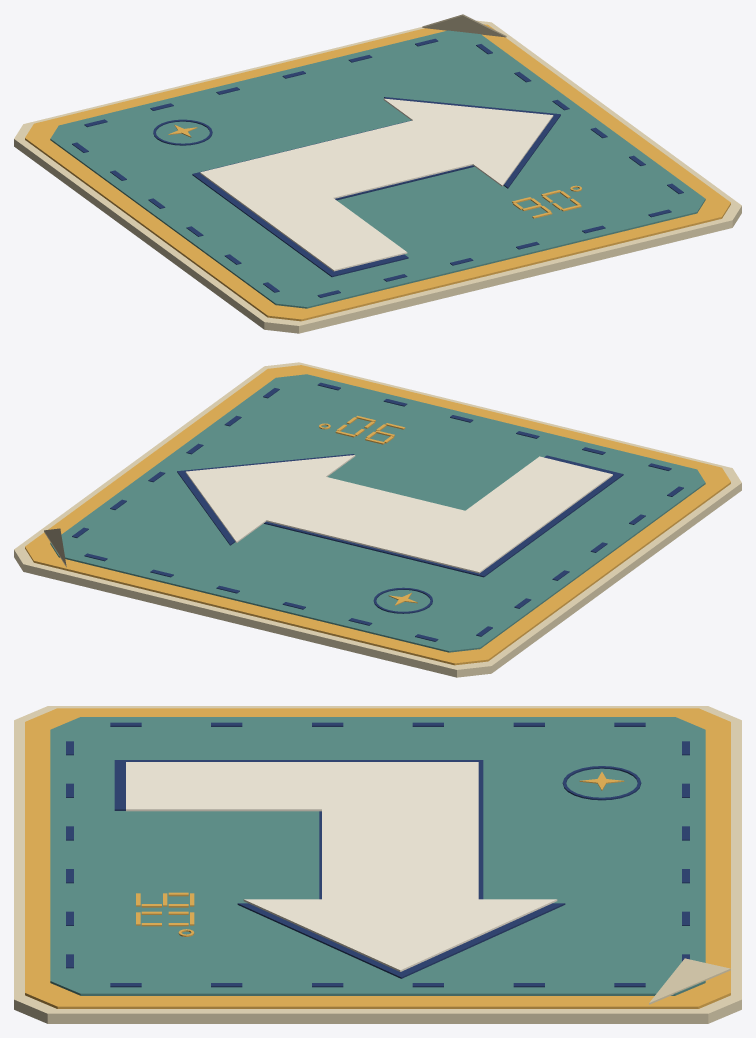
Rendered from magic_turn_sticker.glb.
3 renders of one model, top to bottom at view 1: azimuth 30°, elevation 25°; view 2: azimuth 150°, elevation 25°; view 3: azimuth 270°, elevation 25°, orthographic. The views are drawn at different scales.
Visible parts, largest first — view 1: magic_turn_sticker__teal_route_field, magic_turn_sticker__right_angle_arrow, magic_turn_sticker__gold_boundary, magic_turn_sticker__thick_sticker_backing, magic_turn_sticker__turn_arrow_shadow, magic_turn_sticker, magic_turn_sticker__peeled_corner; view 2: magic_turn_sticker__teal_route_field, magic_turn_sticker__right_angle_arrow, magic_turn_sticker__gold_boundary, magic_turn_sticker__thick_sticker_backing, magic_turn_sticker__turn_arrow_shadow, magic_turn_sticker; view 3: magic_turn_sticker__teal_route_field, magic_turn_sticker__right_angle_arrow, magic_turn_sticker__gold_boundary, magic_turn_sticker__thick_sticker_backing, magic_turn_sticker__turn_arrow_shadow, magic_turn_sticker, magic_turn_sticker__peeled_corner, magic_turn_sticker__postal_circuit.
Part boxes in pixels (x1=…): magic_turn_sticker__teal_route_field: x1=50, y1=30, x2=705, y2=308; magic_turn_sticker__right_angle_arrow: x1=200, y1=98, x2=553, y2=271; magic_turn_sticker__gold_boundary: x1=25, y1=24, x2=730, y2=321; magic_turn_sticker__thick_sticker_backing: x1=14, y1=20, x2=741, y2=333; magic_turn_sticker__turn_arrow_shadow: x1=192, y1=97, x2=560, y2=277; magic_turn_sticker: x1=72, y1=38, x2=683, y2=297; magic_turn_sticker__peeled_corner: x1=422, y1=14, x2=506, y2=37; magic_turn_sticker__teal_route_field: x1=50, y1=374, x2=705, y2=652; magic_turn_sticker__right_angle_arrow: x1=185, y1=455, x2=612, y2=573; magic_turn_sticker__gold_boundary: x1=25, y1=365, x2=730, y2=665; magic_turn_sticker__thick_sticker_backing: x1=14, y1=362, x2=741, y2=677; magic_turn_sticker__turn_arrow_shadow: x1=177, y1=454, x2=623, y2=577; magic_turn_sticker: x1=72, y1=382, x2=683, y2=641; magic_turn_sticker__teal_route_field: x1=50, y1=717, x2=705, y2=995; magic_turn_sticker__right_angle_arrow: x1=126, y1=762, x2=557, y2=971; magic_turn_sticker__gold_boundary: x1=25, y1=708, x2=730, y2=1008; magic_turn_sticker__thick_sticker_backing: x1=14, y1=706, x2=741, y2=1023; magic_turn_sticker__turn_arrow_shadow: x1=114, y1=760, x2=565, y2=978; magic_turn_sticker: x1=66, y1=722, x2=689, y2=987; magic_turn_sticker__peeled_corner: x1=649, y1=958, x2=730, y2=1004; magic_turn_sticker__postal_circuit: x1=562, y1=766, x2=641, y2=800.
Size of the model in its own units: 0.65 by 0.0408 by 0.65.
